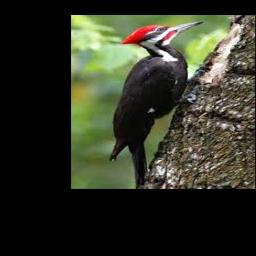Woodpecker: (110, 20, 205, 188)
